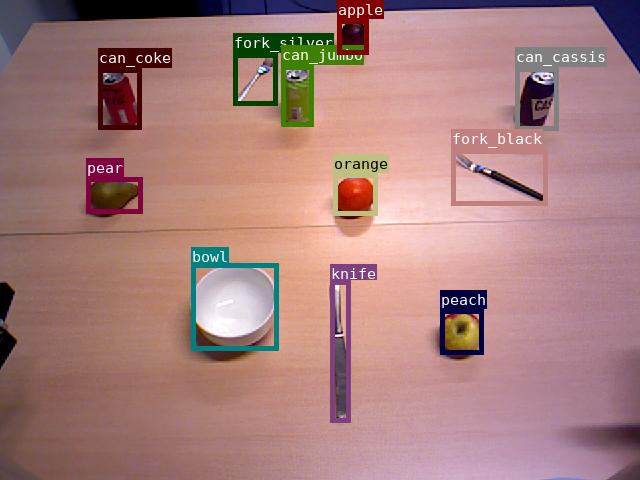apple: (337, 19, 368, 54)
bowl: (191, 263, 278, 350)
can_cassis: (515, 67, 558, 130)
can_coke: (98, 68, 141, 129)
can_jumbo: (281, 65, 313, 126)
fork_black: (451, 149, 547, 205)
fork_silver: (233, 53, 277, 105)
knife: (330, 280, 350, 422)
orange: (333, 173, 377, 215)
peach: (440, 309, 483, 354)
pear: (86, 177, 142, 213)
